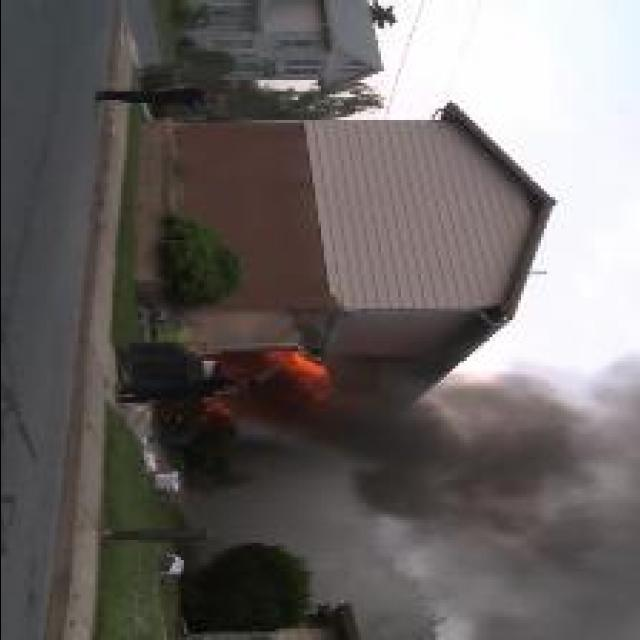Fire: (262, 349, 336, 397)
